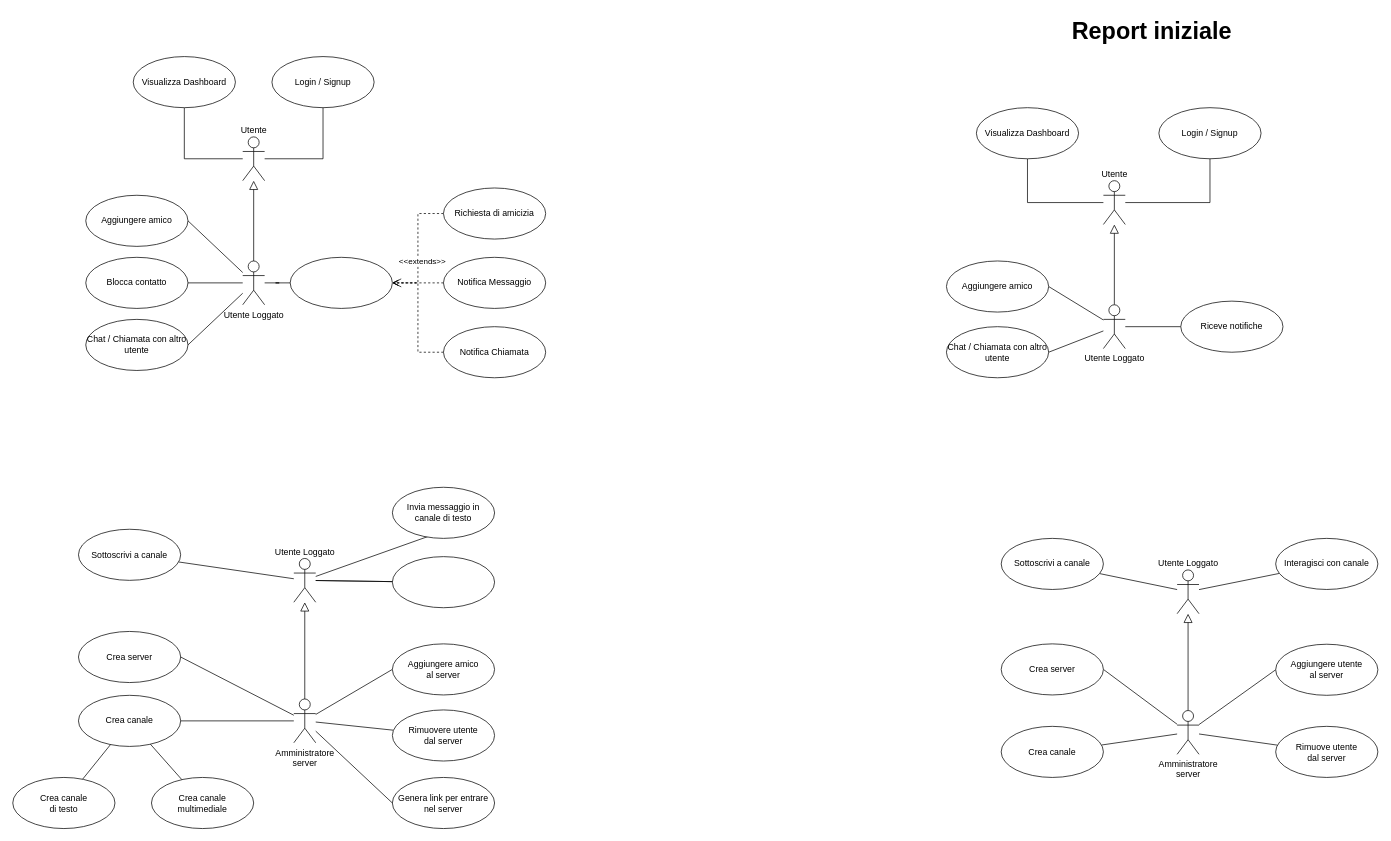
Image size: 1391x841. Some labels were removed from this diagram. The shapes that lost their labels are listed below. From the top down, each one's centre as x and y in pixels, then its label:
the point at 340,282: Riceve notifica
the point at 443,582: Entra in canale multimediale
